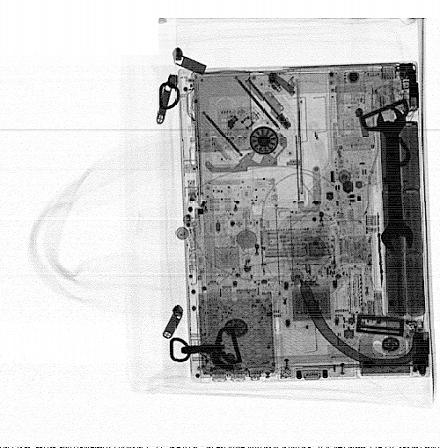Wrench: (375, 106, 415, 255)
